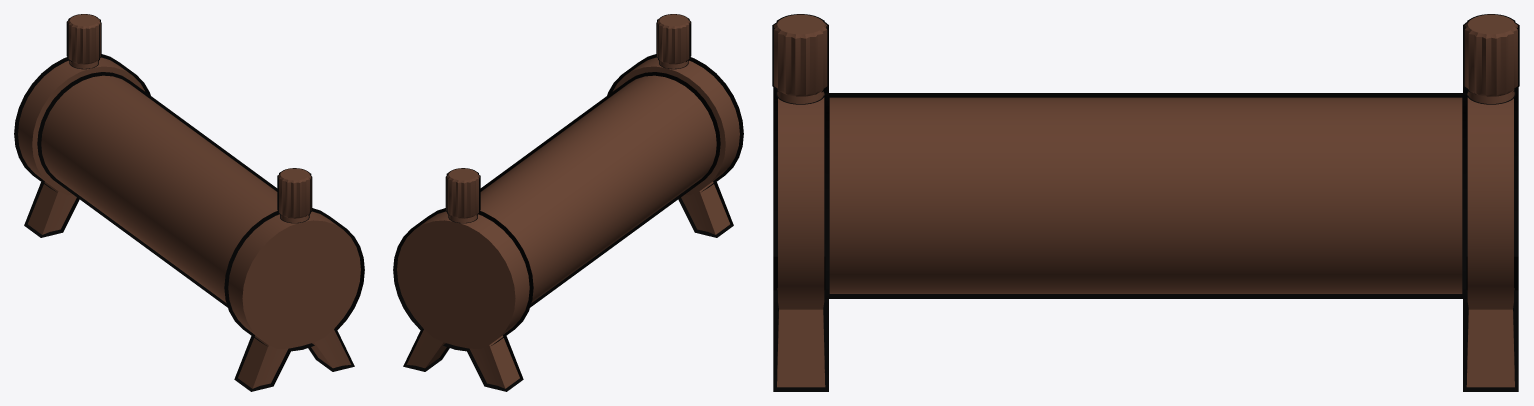
3 views of the same model, side by side, from view 1: azimuth 30°, elevation 25°; view 2: azimuth 150°, elevation 25°; view 3: azimuth 270°, elevation 25° (orthographic). The views are drawn at different scales.
Parts seen in each view (by area): view 1: 柱体.004, 柱体.005, 柱体.027, 柱体.028, 柱体.026, 柱体.006, 柱体.030, 柱体.029, 柱体.031; view 2: 柱体.004, 柱体.027, 柱体.005, 柱体.029, 柱体.026, 柱体.030, 柱体.006, 柱体.028, 柱体.032; view 3: 柱体.004, 柱体.005, 柱体.027, 柱体.026, 柱体.006, 柱体.030, 柱体.028, 柱体.029.
Boxes of the visible parts, left/top/right/bottom form: 柱体.004: left=41, top=75, right=277, bottom=302; 柱体.005: left=228, top=211, right=360, bottom=388; 柱体.027: left=18, top=57, right=144, bottom=234; 柱体.028: left=224, top=208, right=364, bottom=391; 柱体.026: left=37, top=72, right=277, bottom=307; 柱体.006: left=67, top=14, right=100, bottom=68; 柱体.030: left=278, top=168, right=311, bottom=222; 柱体.029: left=14, top=54, right=150, bottom=237; 柱体.031: left=66, top=14, right=101, bottom=69; 柱体.004: left=480, top=75, right=716, bottom=302; 柱体.027: left=397, top=211, right=529, bottom=388; 柱体.005: left=613, top=57, right=739, bottom=234; 柱体.029: left=393, top=208, right=533, bottom=391; 柱体.026: left=480, top=72, right=720, bottom=307; 柱体.030: left=657, top=14, right=690, bottom=68; 柱体.006: left=446, top=168, right=479, bottom=222; 柱体.028: left=607, top=54, right=743, bottom=237; 柱体.032: left=656, top=14, right=691, bottom=69; 柱体.004: left=829, top=97, right=1462, bottom=293; 柱体.005: left=777, top=93, right=825, bottom=387; 柱体.027: left=1466, top=93, right=1514, bottom=387; 柱体.026: left=825, top=93, right=1466, bottom=298; 柱体.006: left=1464, top=14, right=1517, bottom=103; 柱体.030: left=774, top=14, right=827, bottom=103; 柱体.028: left=773, top=86, right=828, bottom=391; 柱体.029: left=1463, top=86, right=1518, bottom=391.
Size of the model in its own units: 0.5168 by 0.7945 by 1.65.
